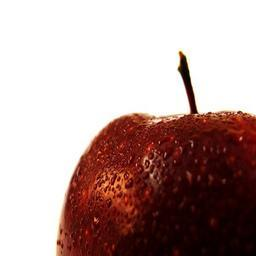apple: (56, 102, 256, 256)
